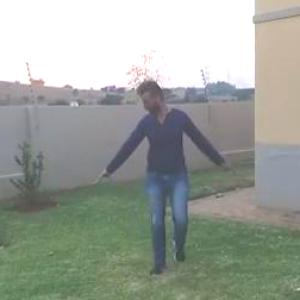land: (87, 78, 240, 284)
